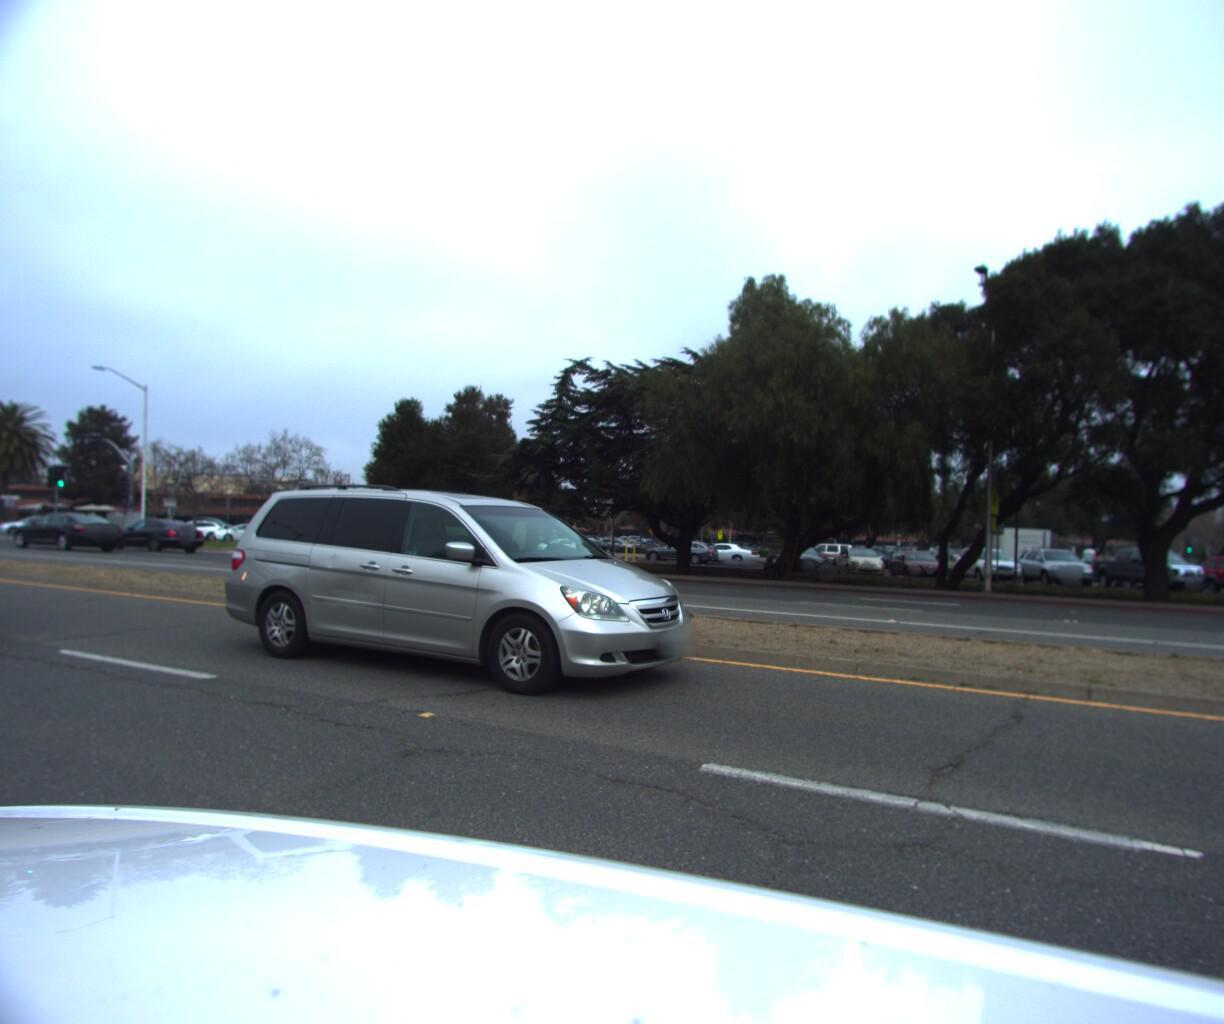car: (210, 473, 723, 709), (6, 514, 127, 556), (105, 519, 208, 556), (0, 518, 79, 540), (156, 523, 227, 544), (208, 524, 279, 545)
